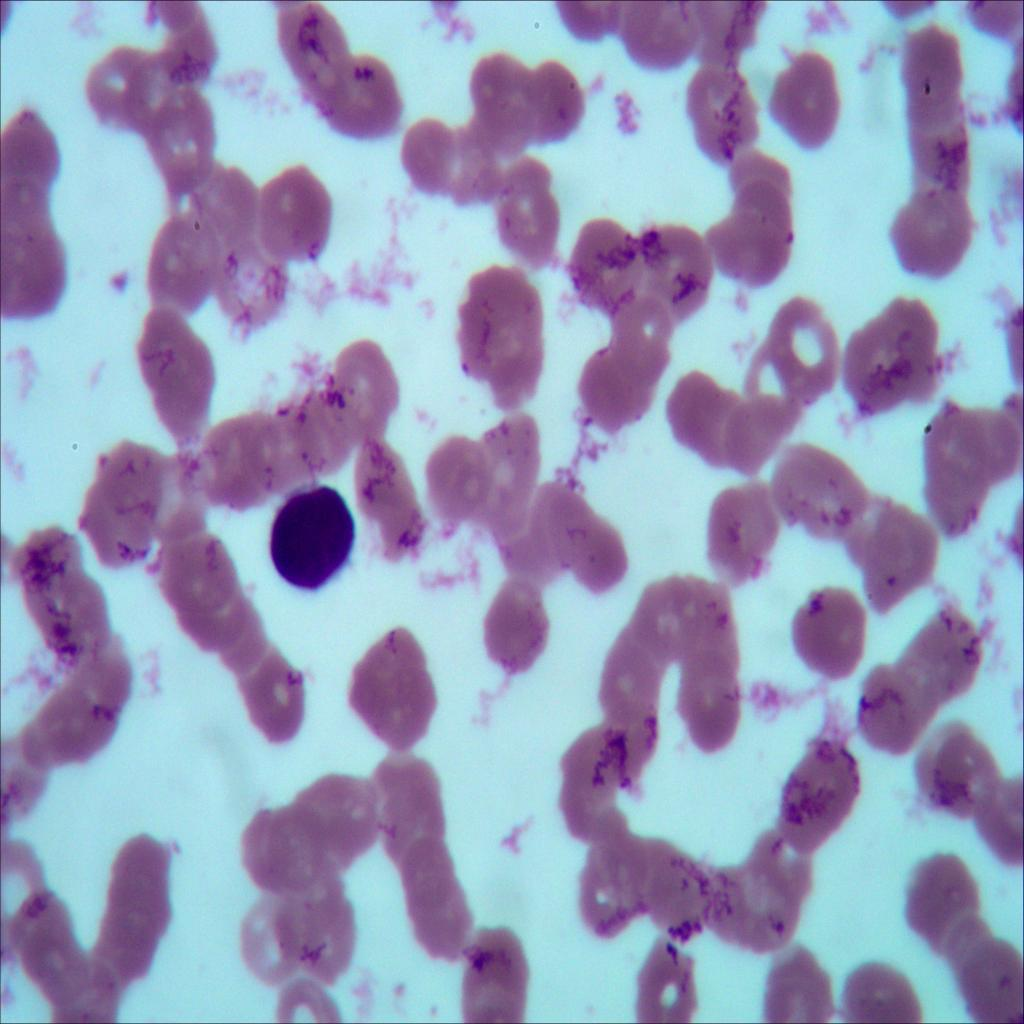Limfoblast: (254, 467, 376, 624)
Platelet: (106, 263, 136, 305)
